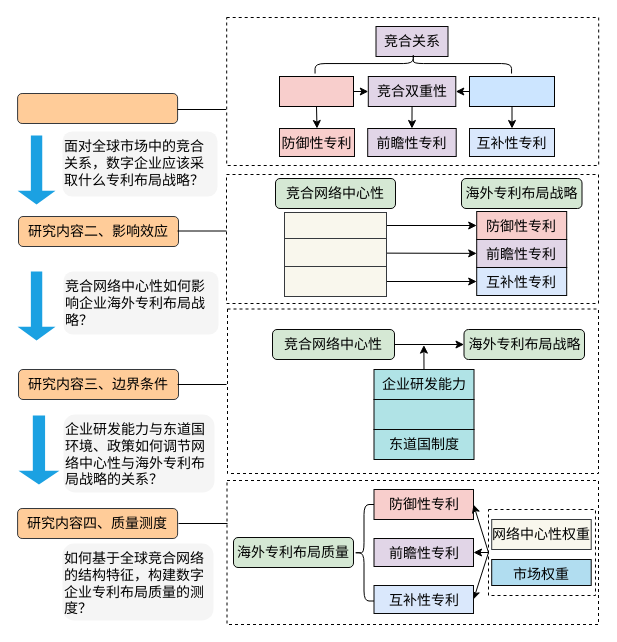
Some shapes in this 617 by 642 pixel diagram are drawn without their labels. The shapes that lost their labels are listed below. From the top down, each one's box as (x1, y1, x2, y2) in pixels, then its label:
(17, 92, 178, 124): 研究内容一、内涵界定
(278, 76, 354, 106): 竞争性
(468, 76, 554, 106): 合作性
(284, 212, 386, 238): 度中心性
(284, 238, 386, 268): 中介中心性
(284, 266, 386, 296): 特征向量中心性
(373, 398, 474, 430): 产业环境
